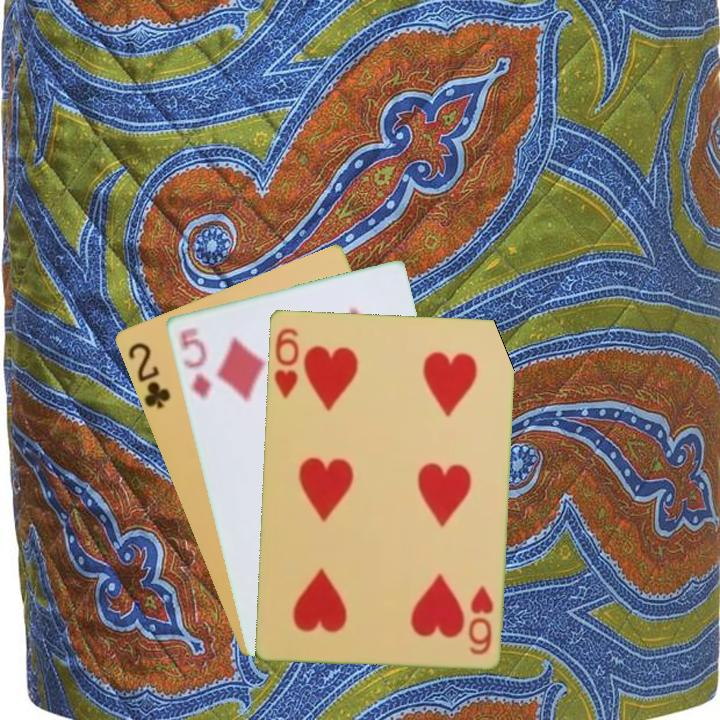2c: (124, 338, 173, 412)
5d: (176, 323, 214, 402)
6h: (270, 324, 302, 401), (464, 582, 495, 657)
